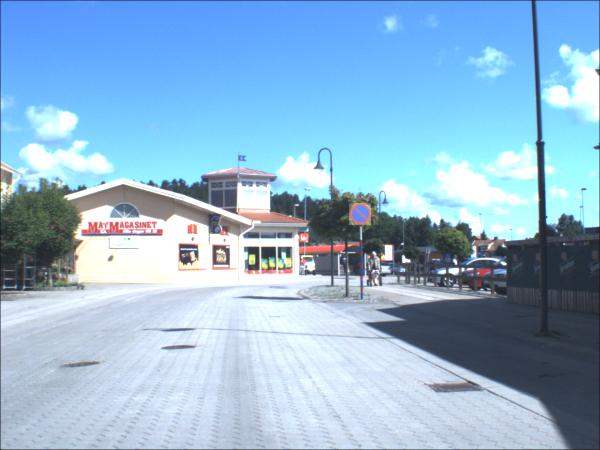NO_PARKING: (350, 204, 373, 227)
PEDESTRIAN_CROSSING: (445, 255, 454, 266)
